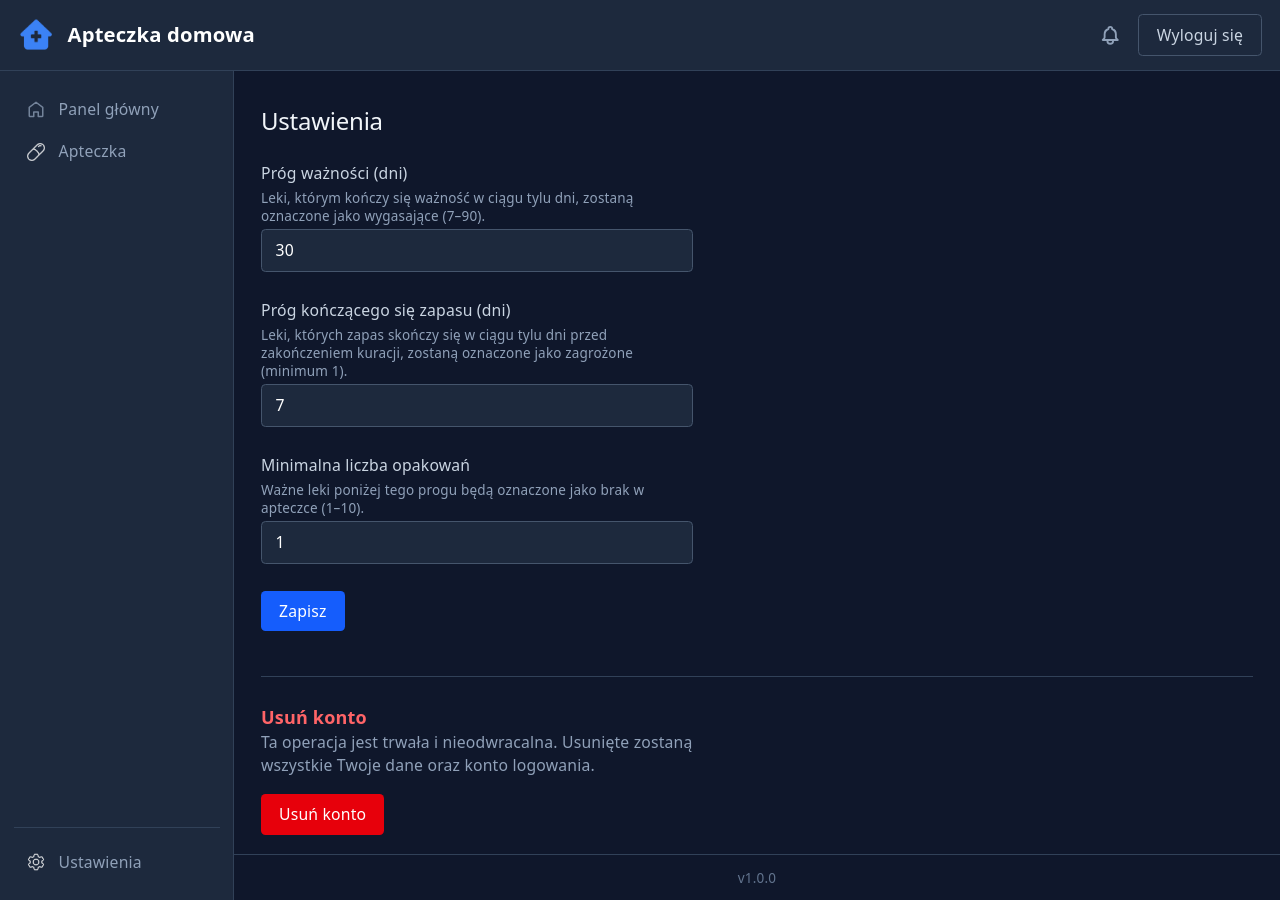
Scenario: SettingsPage thresholds › rejects out-of-range thresholds with Polish messages
Replace the text in the number field labelled "Próg ważności (dni)" with "5" at coordinates (477, 251), box [261,229,693,272]
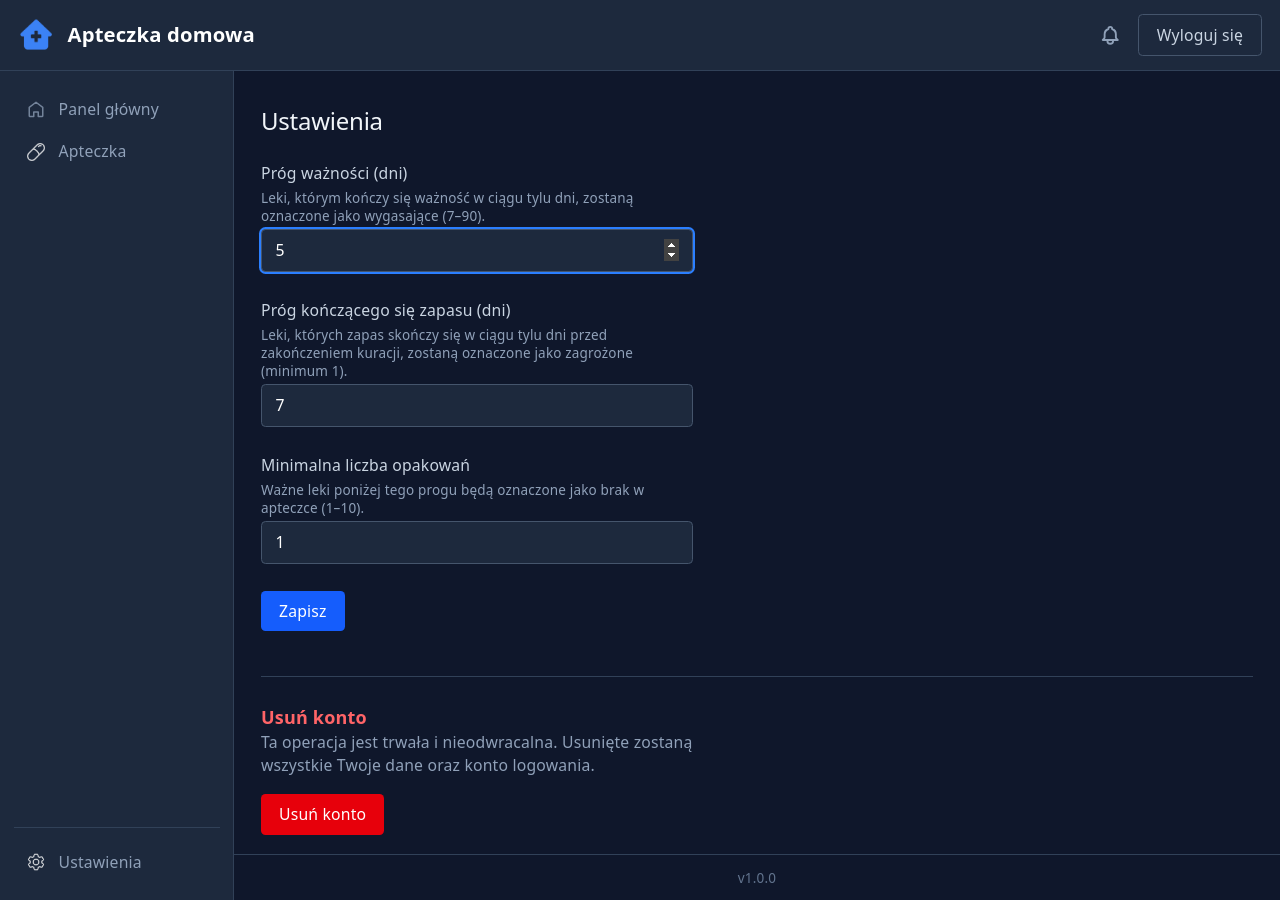
Replace the text in the number field labelled "Próg kończącego się zapasu (dni)" with "0" at coordinates (477, 405), box [261,384,693,427]
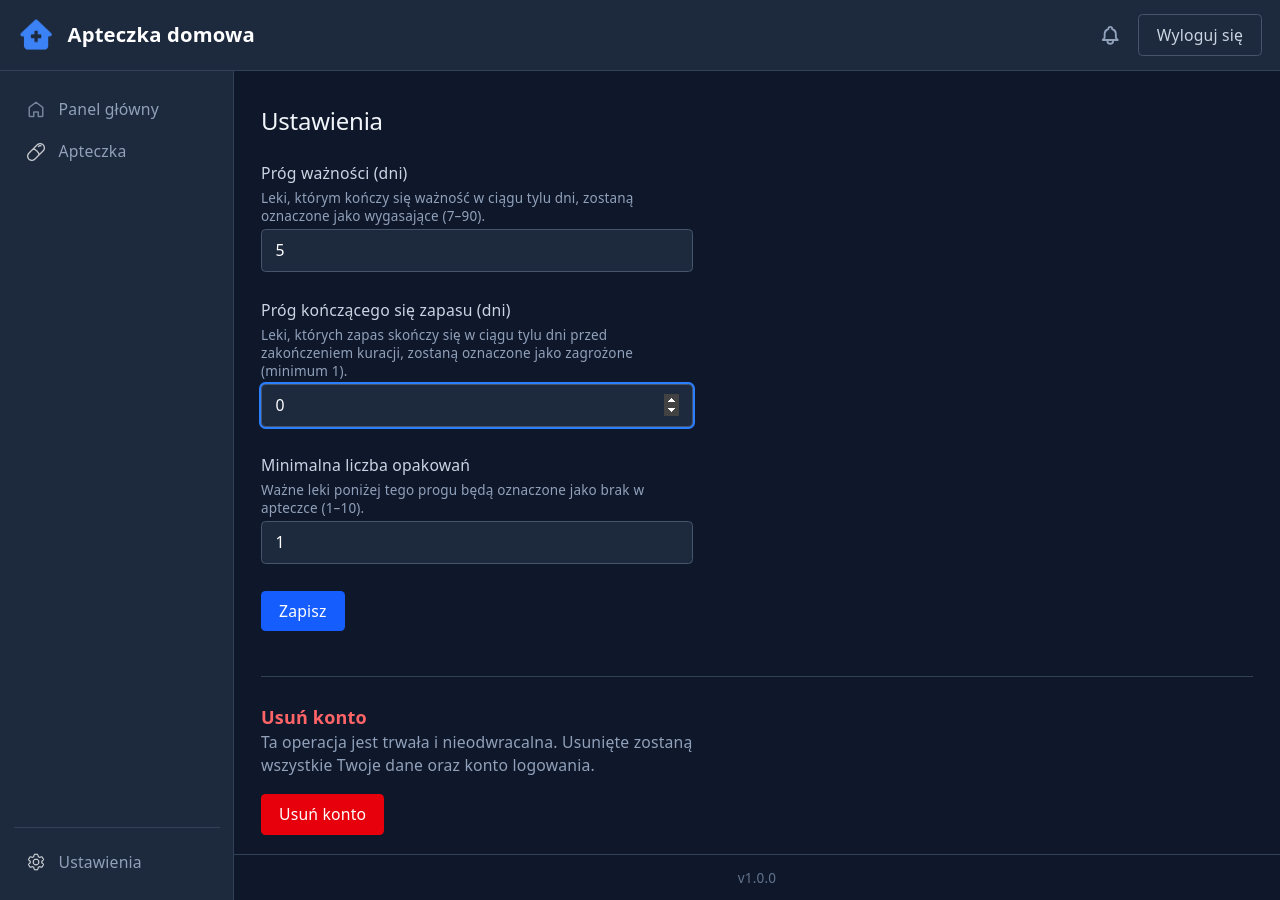
Click the button "Zapisz" at coordinates (303, 611), box [261,591,345,631]
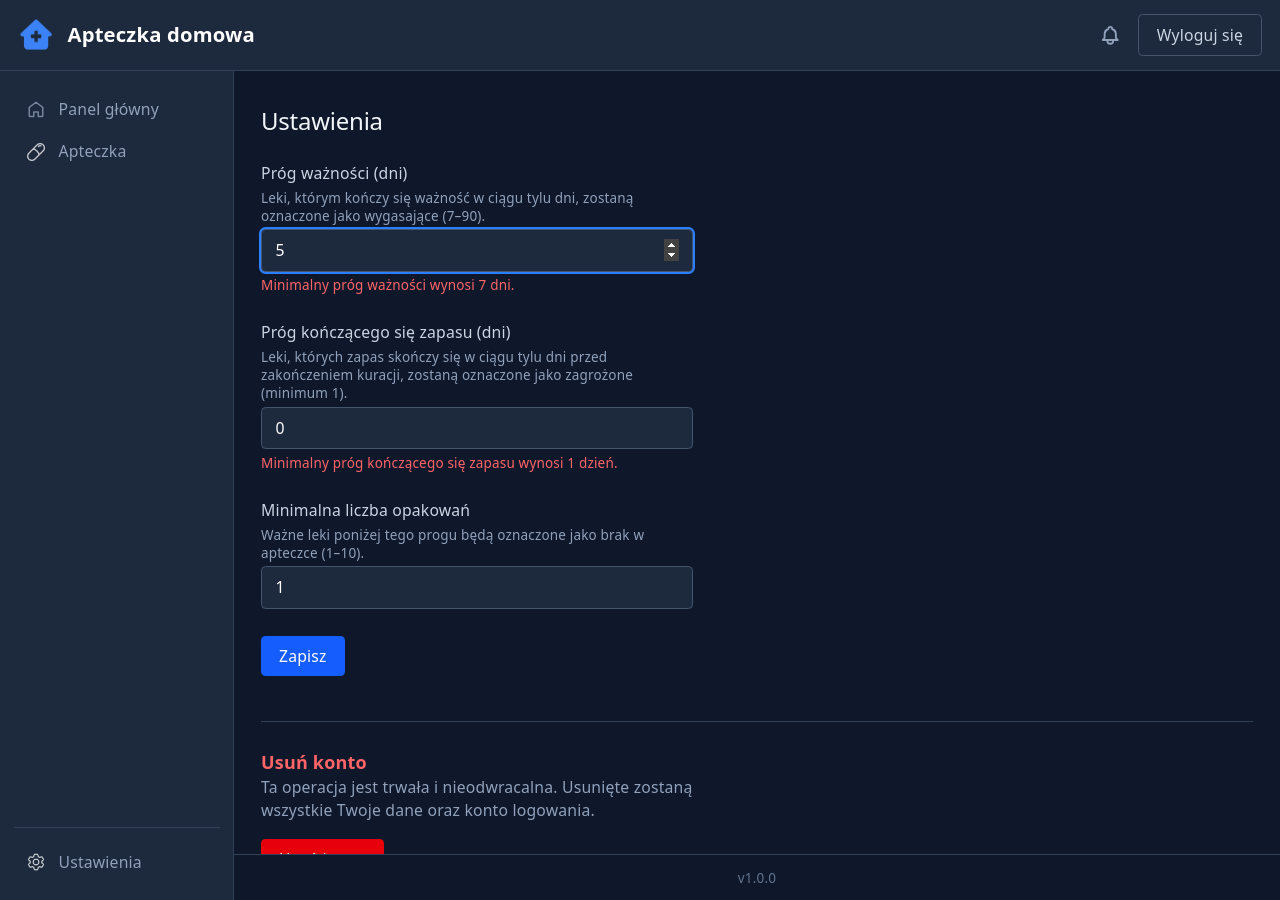
Result: the text "Minimalny próg ważności wynosi 7 dni." is shown at [261,276,515,294]
Result: the text "Minimalny próg kończącego się zapasu wynosi 1 dzień." is shown at [261,454,618,472]
